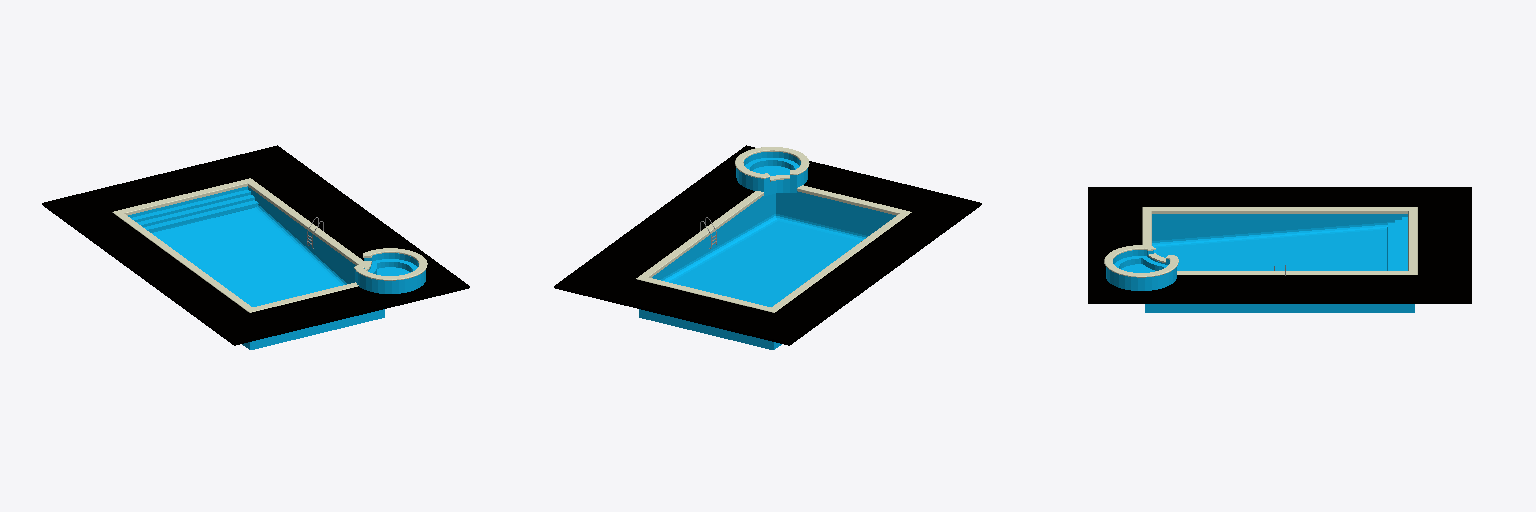
File: rectangular.obj
3 views of the same model, side by side, from view 1: azimuth 30°, elevation 25°; view 2: azimuth 150°, elevation 25°; view 3: azimuth 270°, elevation 25° (orthographic).
Visible parts, largest first — view 1: rectangular_suelo_sombra, rectangular_sombra, rectangular_borde_sombra, escalera_obra_rectangular_sombra, jacuzzi_rectangular_sombra, jacuzzi_borde_rectangular_sombra; view 2: rectangular_suelo_sombra, rectangular_sombra, rectangular_borde_sombra, jacuzzi_rectangular_sombra, jacuzzi_borde_rectangular_sombra; view 3: rectangular_suelo_sombra, rectangular_sombra, rectangular_borde_sombra, jacuzzi_rectangular_sombra, escalera_obra_rectangular_sombra, jacuzzi_borde_rectangular_sombra.
Part boxes in pixels (bbox=[...]): rectangular_suelo_sombra: bbox=[42, 145, 469, 345]; rectangular_sombra: bbox=[128, 186, 384, 349]; rectangular_borde_sombra: bbox=[112, 178, 363, 312]; escalera_obra_rectangular_sombra: bbox=[131, 190, 258, 232]; jacuzzi_rectangular_sombra: bbox=[355, 253, 425, 293]; jacuzzi_borde_rectangular_sombra: bbox=[354, 248, 427, 280]; rectangular_suelo_sombra: bbox=[554, 145, 981, 345]; rectangular_sombra: bbox=[639, 191, 895, 349]; rectangular_borde_sombra: bbox=[636, 185, 911, 312]; jacuzzi_rectangular_sombra: bbox=[736, 152, 807, 196]; jacuzzi_borde_rectangular_sombra: bbox=[735, 147, 809, 181]; rectangular_suelo_sombra: bbox=[1088, 187, 1471, 303]; rectangular_sombra: bbox=[1145, 214, 1414, 312]; rectangular_borde_sombra: bbox=[1142, 207, 1417, 274]; jacuzzi_rectangular_sombra: bbox=[1106, 250, 1176, 290]; escalera_obra_rectangular_sombra: bbox=[1387, 217, 1407, 270]; jacuzzi_borde_rectangular_sombra: bbox=[1104, 245, 1178, 277].
Bounding box in the file's own units: 669 × 147 × 945.